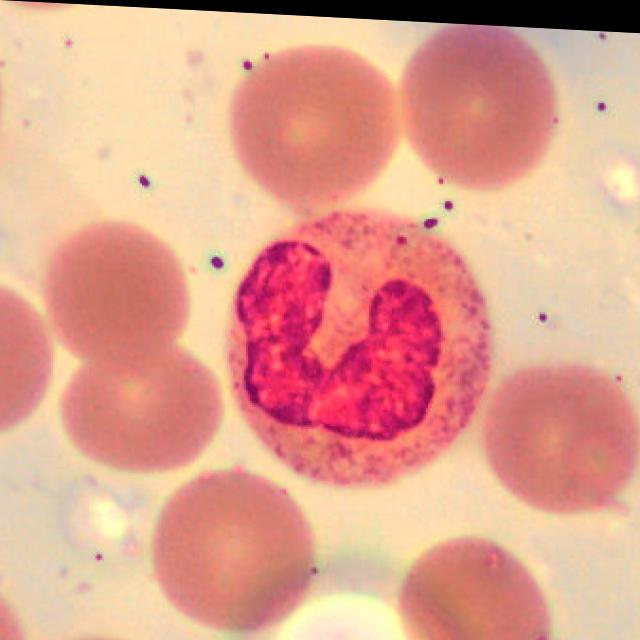Bastonete: (227, 207, 492, 483)
